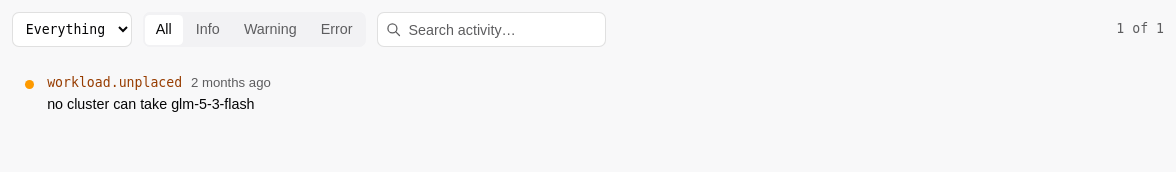
Test case: ActivityStream › keeps the plane's own reasoning reachable when there is no deployment
Step 1. Select "ap1" in the dropdown → (72, 30), box [12,12,132,47]
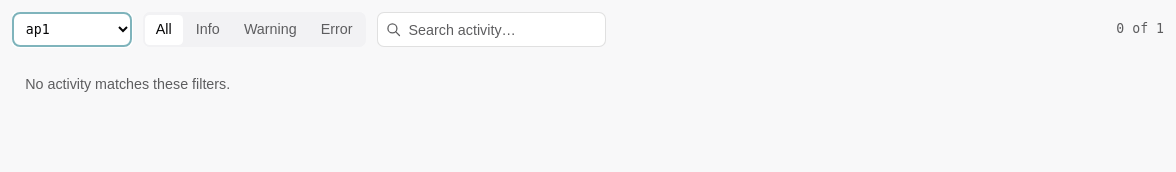
Expected: the text "no cluster can take" is gone
Step 2. Select "Placement" in the dropdown → (72, 30), box [12,12,132,47]
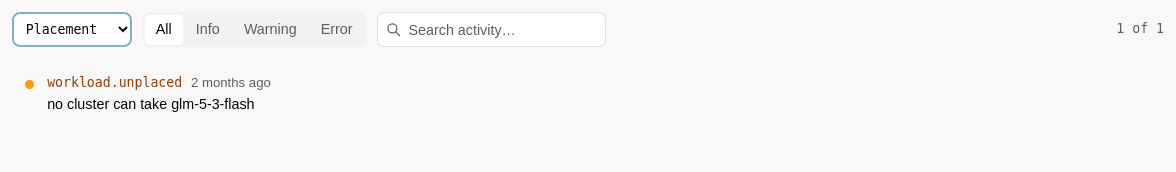
Expected: the text "no cluster can take glm-5-3-flash" is shown, [47,96,255,112]
